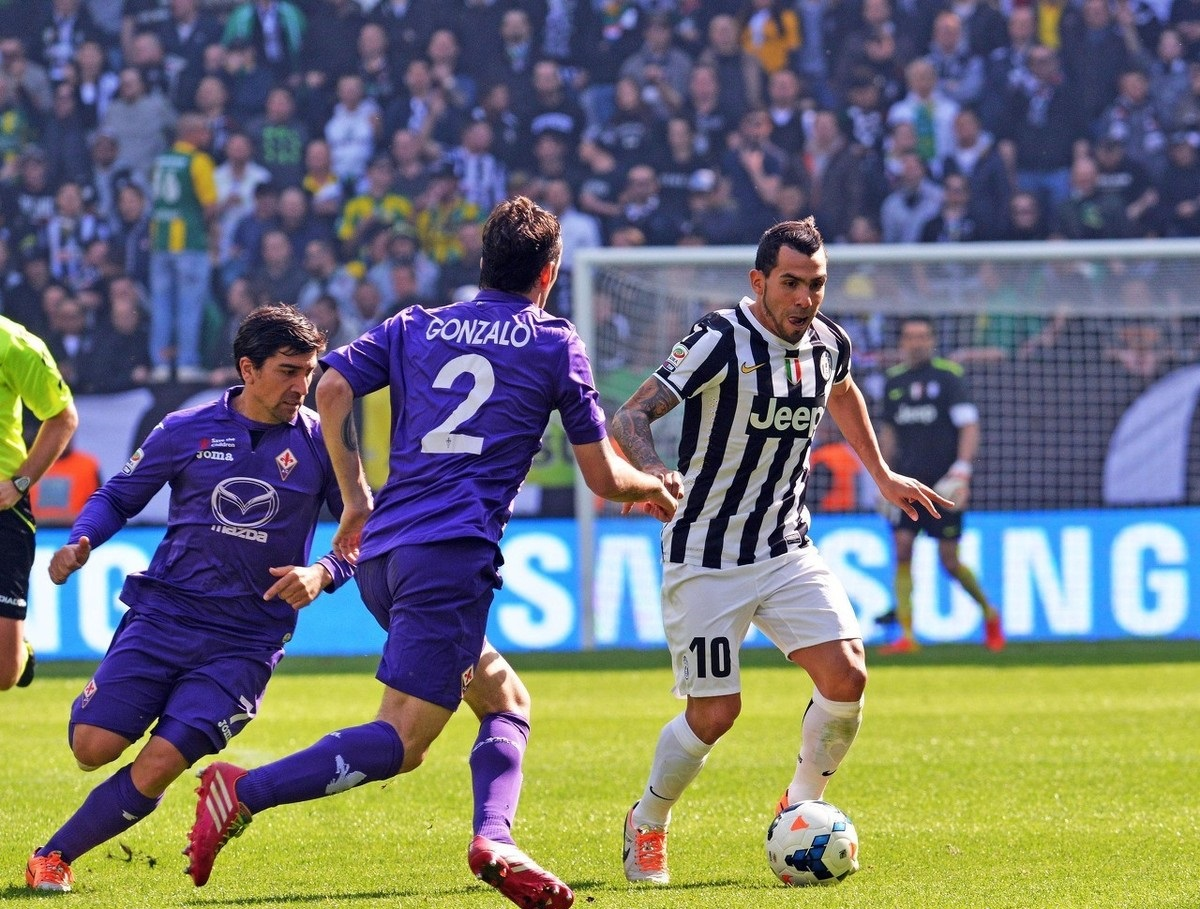ball: (765, 798, 860, 886)
